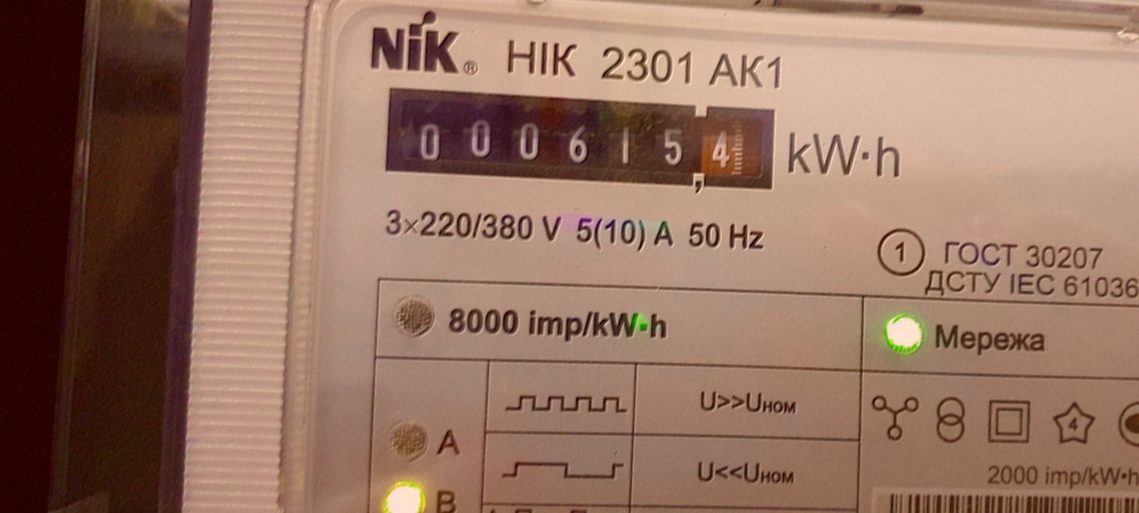0: (514, 117, 542, 162), (414, 118, 442, 161), (466, 115, 492, 156)
1: (617, 122, 633, 165)
4: (708, 126, 730, 168)
5: (659, 123, 685, 167)
6: (563, 121, 590, 163)
screen: (368, 67, 790, 211)
